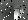person: (16, 6, 24, 20)
